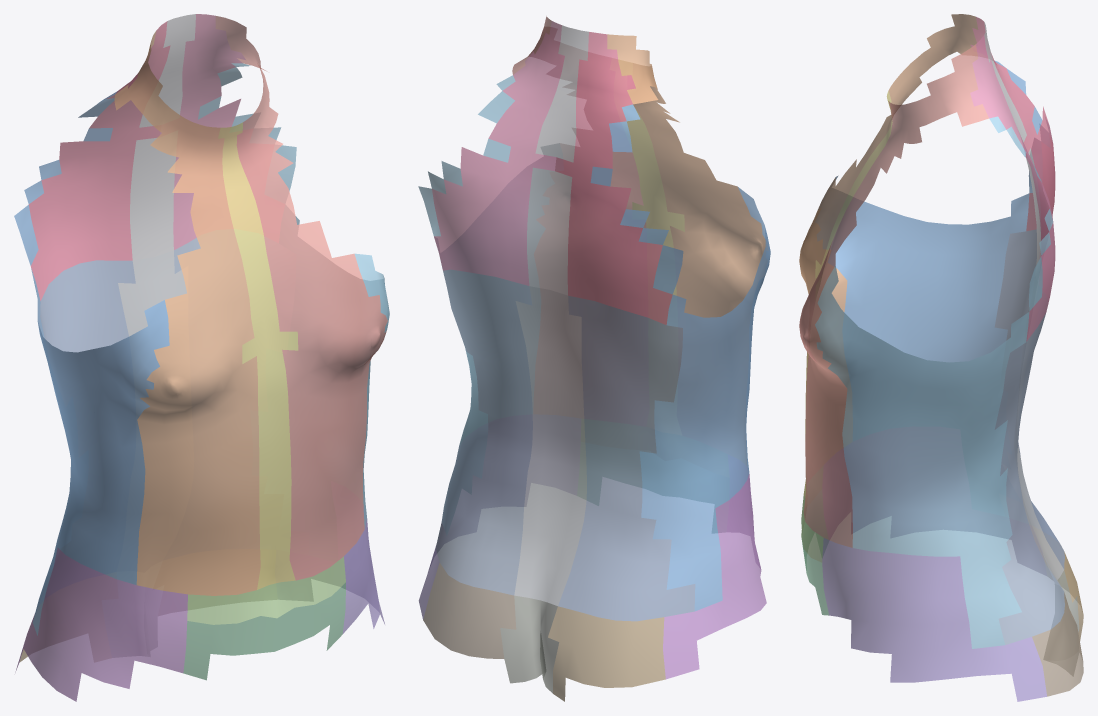
Rendered from malianteo_body_v1_torso_t2.glb.
The picture shows the model from 3 angles, left to right: view 1: azimuth 30°, elevation 25°; view 2: azimuth 150°, elevation 25°; view 3: azimuth 270°, elevation 25°; orthographic projection. The views are drawn at different scales.
Parts seen in each view (by area): view 1: zone_right_chest, zone_left_chest, zone_left_ribs, zone_left_mid_back, zone_right_ribs, zone_right_mid_back, zone_mid_back_center, zone_right_flank, zone_left_scapula, zone_right_scapula, zone_sternum, zone_upper_back_center (+6 smaller); view 2: zone_left_chest, zone_right_mid_back, zone_right_ribs, zone_right_chest, zone_left_ribs, zone_left_mid_back, zone_mid_back_center, zone_right_scapula, zone_left_scapula, zone_left_flank, zone_sternum, zone_upper_back_center (+6 smaller); view 3: zone_left_ribs, zone_right_ribs, zone_left_flank, zone_right_flank, zone_left_chest, zone_right_chest, zone_left_mid_back, zone_right_mid_back, zone_left_scapula, zone_right_scapula, zone_left_lower_back, zone_lower_back_center (+6 smaller).
Part boxes in pixels (left/top/right/bottom): zone_right_chest: left=114, top=31, right=260, bottom=595; zone_left_chest: left=215, top=16, right=387, bottom=580; zone_left_ribs: left=198, top=63, right=389, bottom=562; zone_left_mid_back: left=164, top=229, right=308, bottom=559; zone_right_ribs: left=14, top=91, right=169, bottom=635; zone_right_mid_back: left=36, top=260, right=135, bottom=610; zone_mid_back_center: left=117, top=250, right=193, bottom=571; zone_right_flank: left=15, top=547, right=187, bottom=701; zone_left_scapula: left=160, top=14, right=284, bottom=249; zone_right_scapula: left=28, top=21, right=170, bottom=300; zone_sternum: left=218, top=122, right=298, bottom=589; zone_upper_back_center: left=130, top=14, right=195, bottom=260; zone_left_chest: left=512, top=16, right=648, bottom=425; zone_right_mid_back: left=558, top=295, right=695, bottom=621; zone_right_ribs: left=590, top=104, right=770, bottom=611; zone_right_chest: left=607, top=34, right=768, bottom=464; zone_left_ribs: left=418, top=75, right=563, bottom=535; zone_left_mid_back: left=435, top=269, right=532, bottom=595; zone_mid_back_center: left=514, top=286, right=586, bottom=605; zone_right_scapula: left=555, top=32, right=672, bottom=324; zone_left_scapula: left=432, top=21, right=564, bottom=285; zone_left_flank: left=418, top=415, right=580, bottom=619; zone_sternum: left=610, top=58, right=684, bottom=434; zone_upper_back_center: left=527, top=25, right=588, bottom=295; zone_left_ribs: left=815, top=116, right=1052, bottom=648; zone_right_ribs: left=816, top=61, right=1051, bottom=515; zone_left_flank: left=822, top=538, right=1046, bottom=701; zone_right_flank: left=823, top=427, right=1046, bottom=575; zone_left_chest: left=799, top=44, right=988, bottom=547; zone_right_chest: left=799, top=14, right=986, bottom=485; zone_left_mid_back: left=994, top=286, right=1064, bottom=644; zone_right_mid_back: left=994, top=229, right=1064, bottom=569; zone_left_scapula: left=970, top=35, right=1055, bottom=341; zone_right_scapula: left=970, top=17, right=1055, bottom=256; zone_left_lower_back: left=1032, top=592, right=1083, bottom=696; zone_lower_back_center: left=1044, top=570, right=1079, bottom=675.
Bounding box in the file's own units: 0.3315 × 0.6607 × 0.2657.
